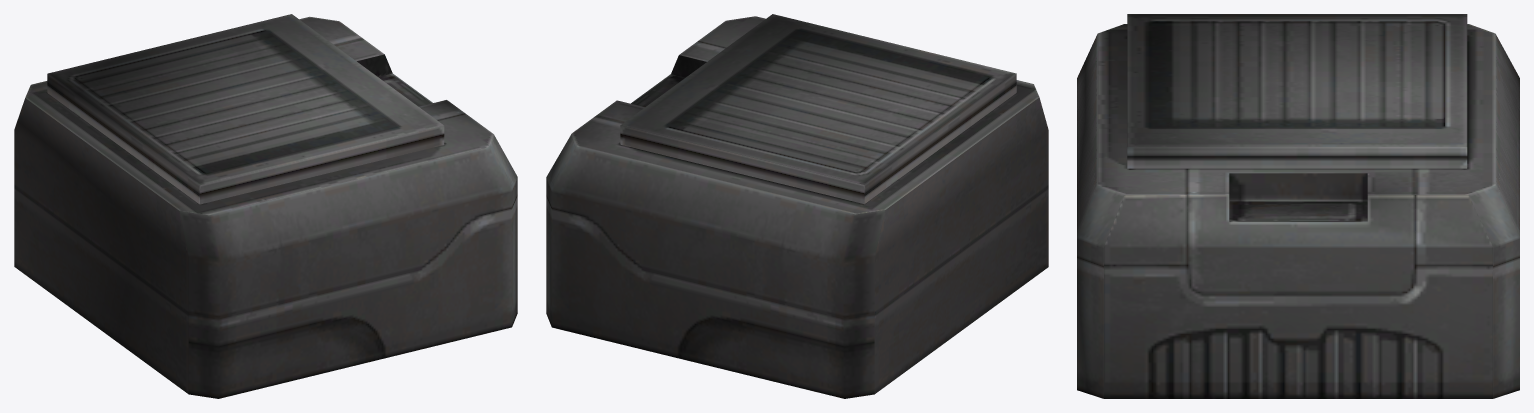
File: bedside3.glb
The picture shows the model from 3 angles, left to right: view 1: azimuth 30°, elevation 25°; view 2: azimuth 150°, elevation 25°; view 3: azimuth 270°, elevation 25°; orthographic projection. The views are drawn at different scales.
Visible parts, largest first — view 1: Box11; view 2: Box11; view 3: Box11.
Boxes of the visible parts, box(x1,y1,x2,y2) form: Box11: box(14, 14, 517, 398); Box11: box(546, 14, 1048, 398); Box11: box(1077, 14, 1519, 398).
Size of the model in its own units: 30.73 by 17.52 by 32.14.
1 material, 1 textured.
